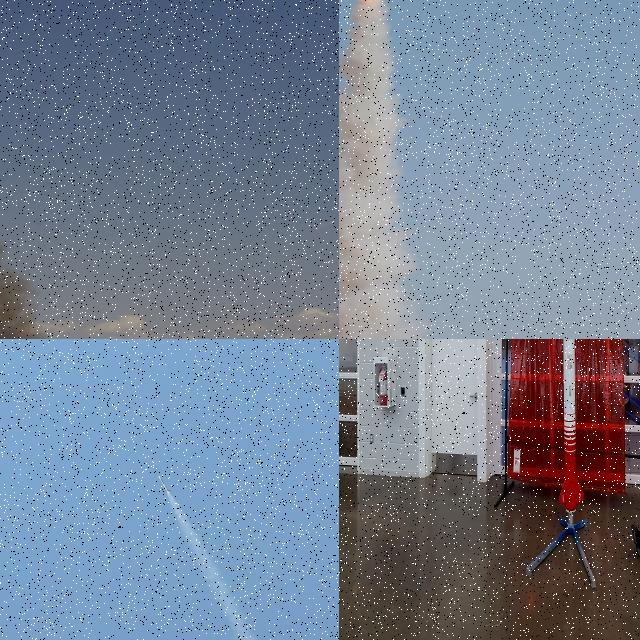Rocket: (559, 339, 584, 511), (157, 475, 173, 493)
